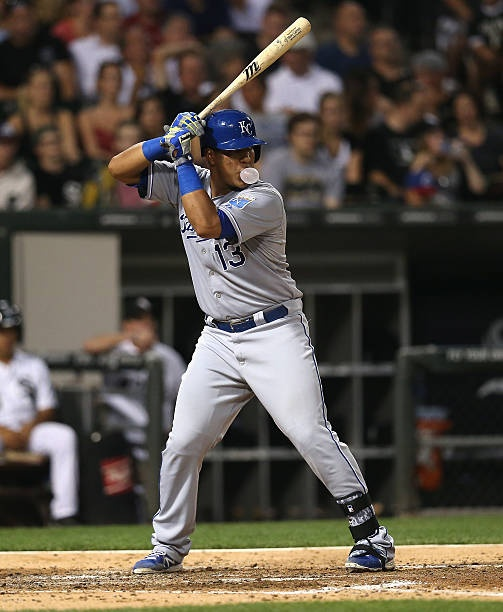bita: (192, 17, 313, 125)
